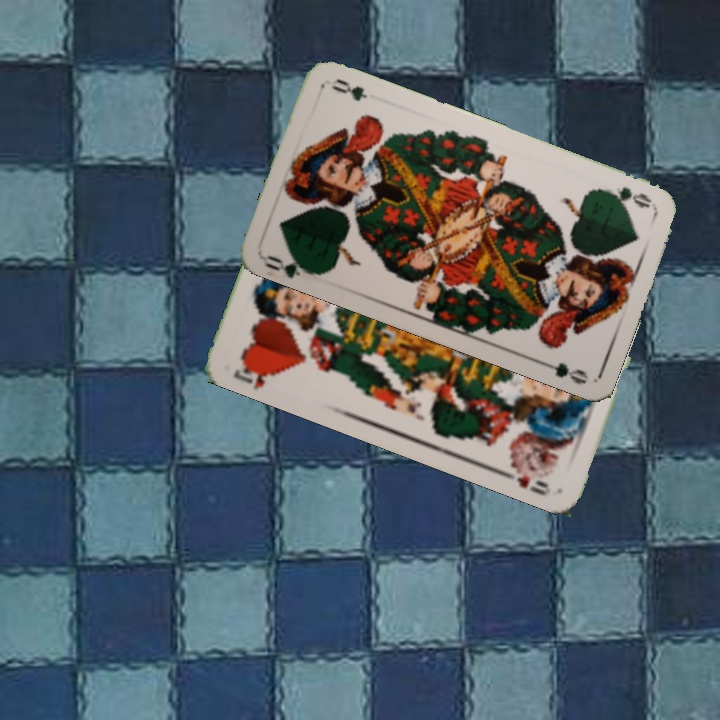GO: (259, 250, 319, 280), (597, 182, 655, 211)
HO: (230, 356, 282, 392)
